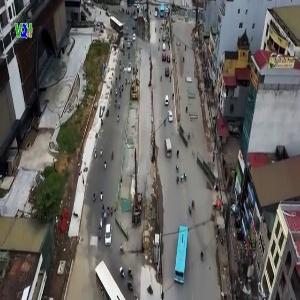drone: (93, 12, 152, 71)
